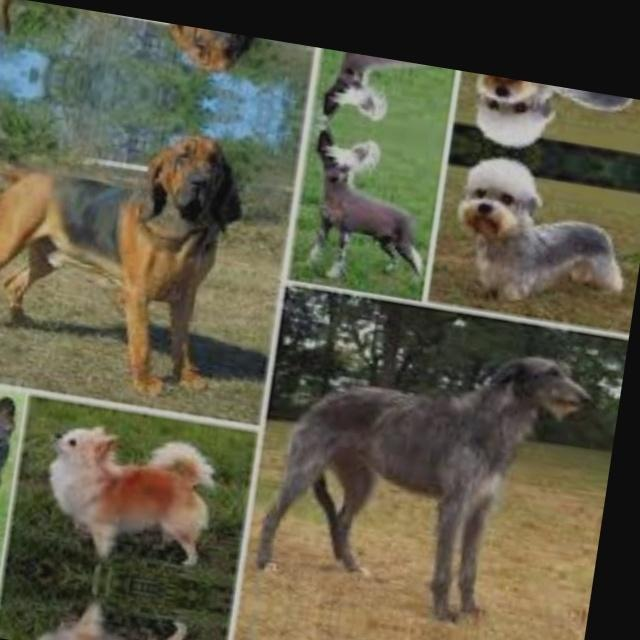dog: (0, 88, 260, 401), (0, 0, 274, 89)
